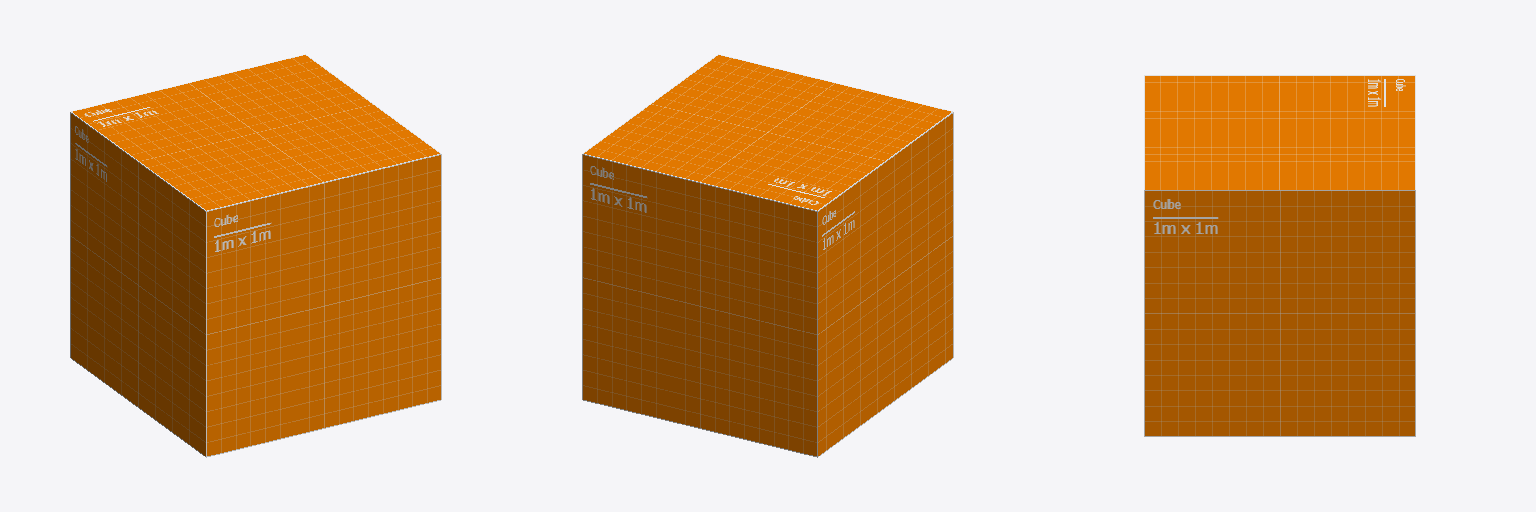
3 views of the same model, side by side, from view 1: azimuth 30°, elevation 25°; view 2: azimuth 150°, elevation 25°; view 3: azimuth 270°, elevation 25° (orthographic).
Visible parts, largest first — view 1: Cube_Cube.001; view 2: Cube_Cube.001; view 3: Cube_Cube.001.
Boxes of the visible parts, x1=… form: Cube_Cube.001: x1=70, y1=54, x2=441, y2=457; Cube_Cube.001: x1=582, y1=54, x2=953, y2=457; Cube_Cube.001: x1=1144, y1=75, x2=1415, y2=436.
Bounding box in the file's own units: 2 × 2 × 2.
1 materials, 1 textured.